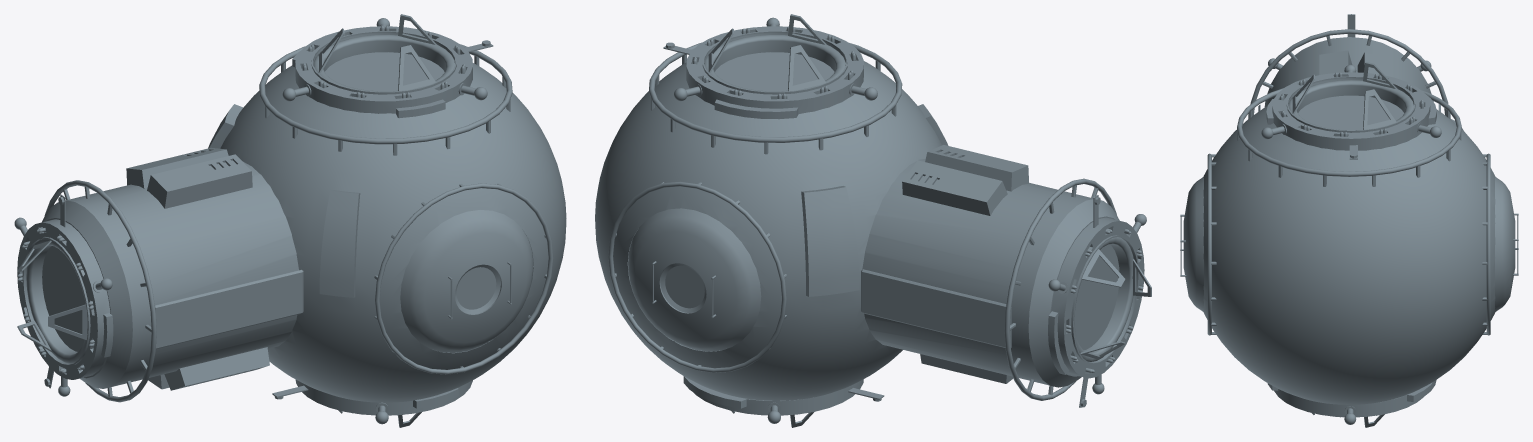
The model's file is bs_airlock.fbx.
3 renders of one model, left to right at view 1: azimuth 30°, elevation 25°; view 2: azimuth 150°, elevation 25°; view 3: azimuth 270°, elevation 25°, orthographic. The views are drawn at different scales.
Parts seen in each view (by area): view 1: bs_airlock; view 2: bs_airlock; view 3: bs_airlock.
Part boxes in pixels (box(x1,y1,x2,y2)): bs_airlock: box(14, 14, 566, 427); bs_airlock: box(595, 14, 1151, 427); bs_airlock: box(1180, 14, 1518, 427).
Size of the model in its own units: 346 by 537 by 380.
